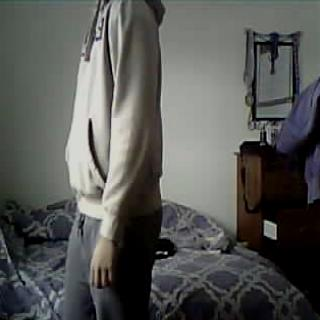Gray Sweatpants: (59, 210, 170, 320)
Yellow Hoodie: (58, 6, 172, 218)
